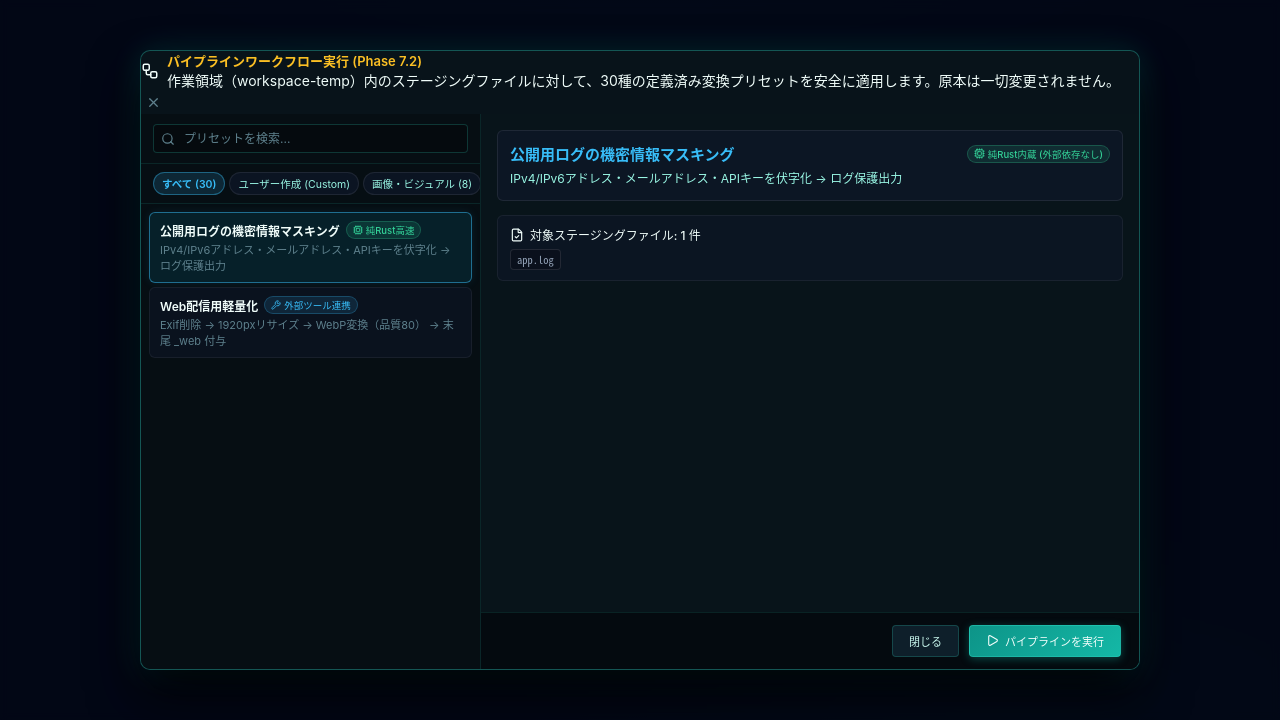
Scenario: PipelineModal (Phase 7.2) › filters presets by category pills
# Click Image category
Click the button "画像・ビジュアル (8)" at (422, 184), box [363, 172, 481, 195]
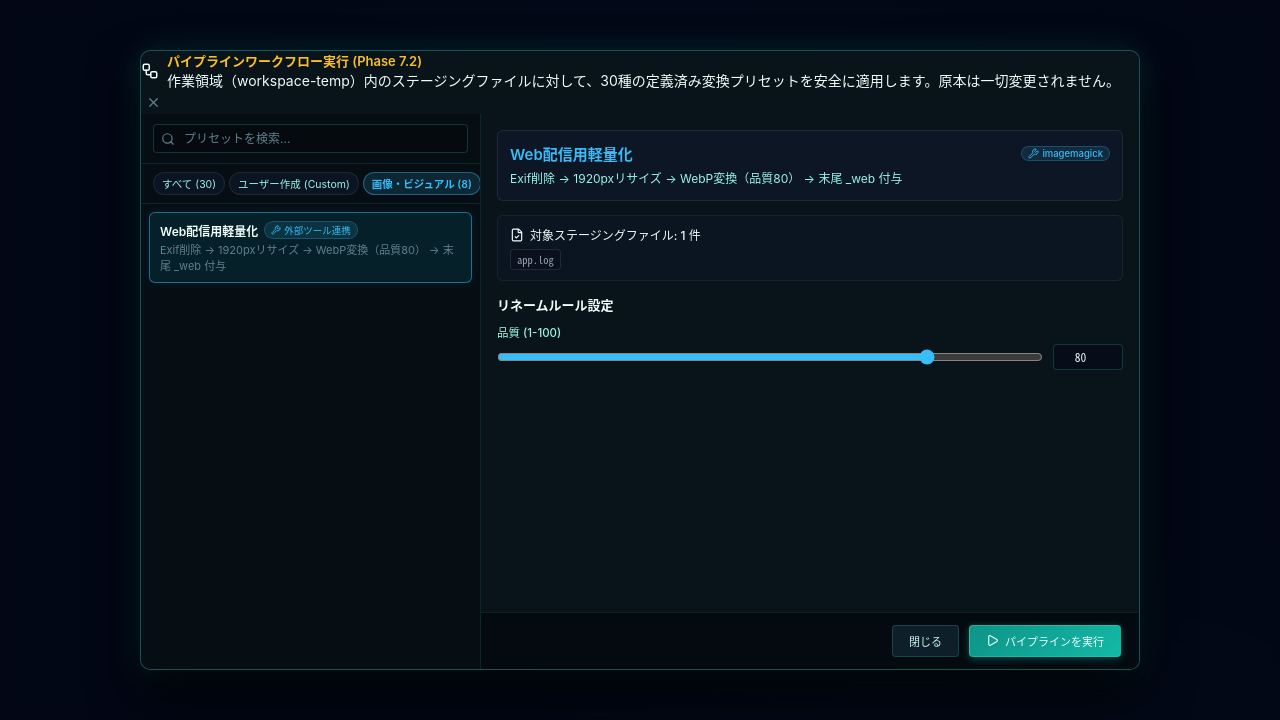
Check: no buttons "公開用ログの機密情報マスキング" are shown
